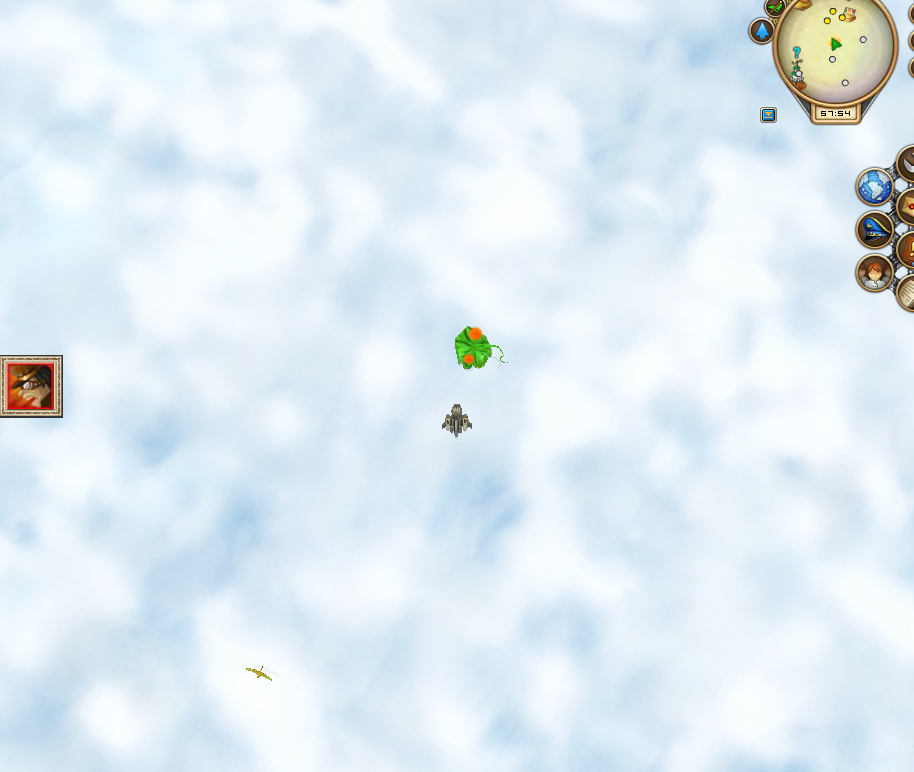dandelion-full: (447, 322, 510, 375)
